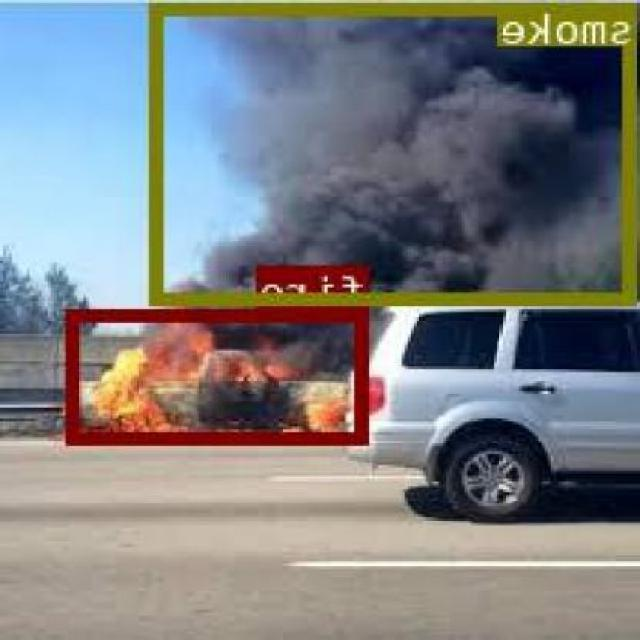Fire: (69, 306, 371, 443)
Smoke: (154, 2, 640, 302)
